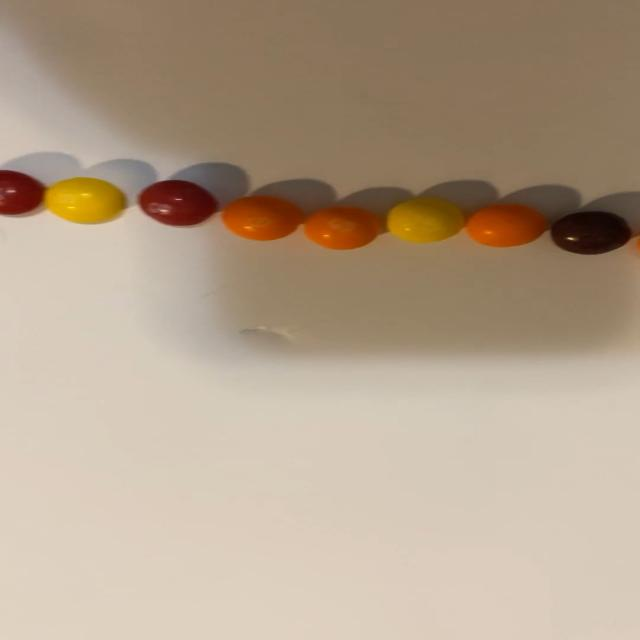smartie: (43, 177, 124, 223), (137, 180, 216, 226), (221, 196, 303, 240), (466, 204, 547, 247), (551, 211, 632, 254), (388, 198, 464, 242), (304, 207, 379, 250), (0, 170, 43, 214)
